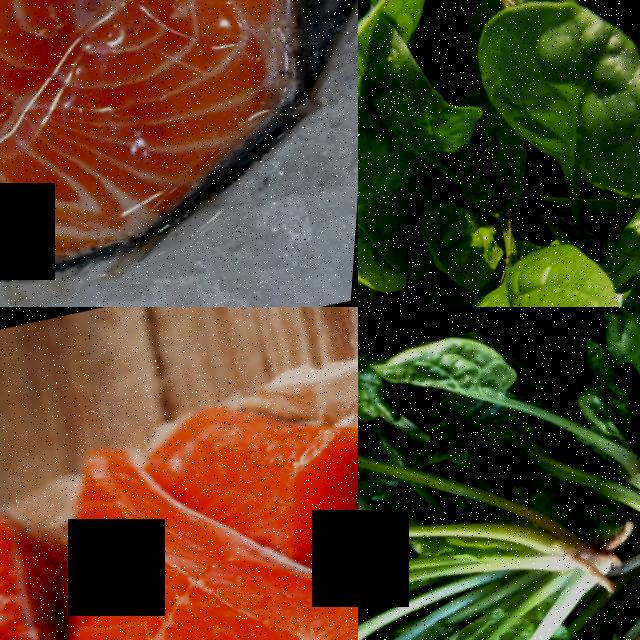salmon: (0, 0, 358, 307), (89, 530, 358, 640), (232, 410, 358, 560), (0, 502, 98, 640)
spinach: (461, 0, 640, 221), (358, 67, 485, 200), (373, 320, 525, 416), (358, 348, 393, 423)
